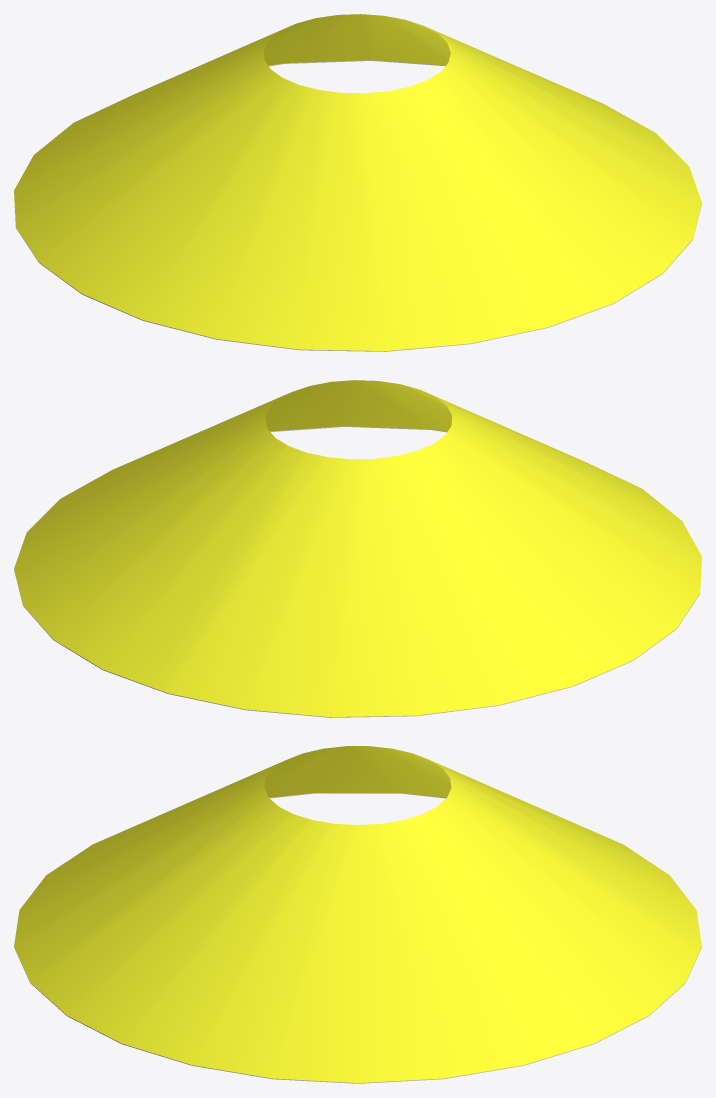
Rendered from yellow_cone.dae.
3 renders of one model, top to bottom at view 1: azimuth 30°, elevation 25°; view 2: azimuth 150°, elevation 25°; view 3: azimuth 270°, elevation 25°, orthographic.
Visible parts, largest first — view 1: SketchUp (×2); view 2: SketchUp (×2); view 3: SketchUp (×2).
Part boxes in pixels (x1,y1,x2,y2): SketchUp (×2): [14, 14, 701, 351]; SketchUp (×2): [14, 380, 701, 717]; SketchUp (×2): [14, 746, 701, 1083].
Bounding box in the file's own units: 7.25 × 7.27 × 1.78.
